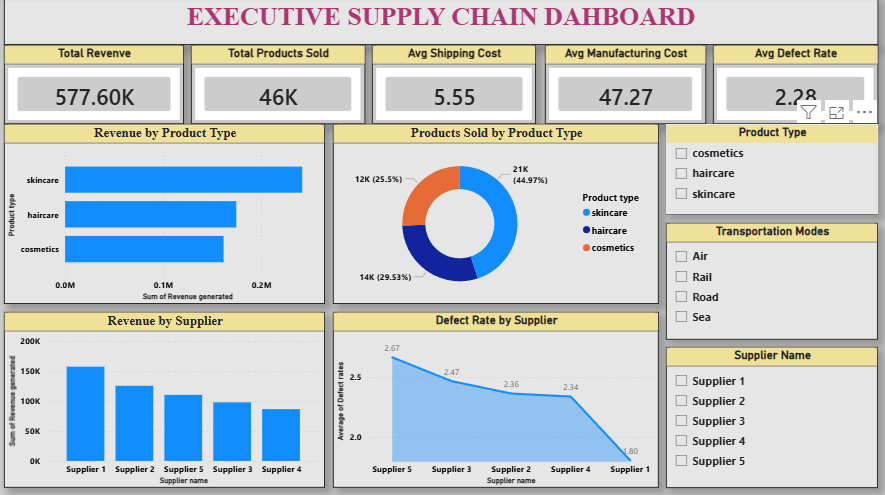

What the dashboard file says about the page in this screenshot:
{"tool":"powerbi","page":{"name":"Executive Dashboard ","canvas":[1280,720],"ordinal":0},"visuals":[{"type":"textbox","box":[10.2,0,1258.5,68.8],"z":0},{"type":"cardVisual","title":"Total Revenve","fields":{"Data":["project_supply_chain_data Supplier_Performance.Total Revenue"]},"box":[10.1,69.1,259.2,113.8],"z":1000},{"type":"cardVisual","title":"Total Products Sold ","fields":{"Data":["project_supply_chain_data Supplier_Performance.Total Products Sold"]},"box":[279.4,69.1,250.6,113.8],"z":2000},{"type":"cardVisual","title":"Avg Shipping Cost","fields":{"Data":["project_supply_chain_data Supplier_Performance.Avg Shipping Cost"]},"box":[540,69.1,236.2,113.8],"z":3000},{"type":"cardVisual","title":"Avg Manufacturing Cost","fields":{"Data":["project_supply_chain_data Supplier_Performance.Avg Manufacturing Cost"]},"box":[789.1,69.1,231.8,113.8],"z":4000},{"type":"cardVisual","title":"Avg Defect Rate","fields":{"Data":["project_supply_chain_data Supplier_Performance.Avg Defect Rate"]},"box":[1031,69.1,237.6,113.8],"z":5000},{"type":"clusteredBarChart","title":"Revenue by Product Type","fields":{"Category":["project_supply_chain_data supply_chain_data.Product type"],"Y":["Sum(project_supply_chain_data supply_chain_data.Revenue generated)"]},"box":[10.1,182.9,462.2,259.2],"z":6000},{"type":"donutChart","title":"Products Sold by Product  Type ","fields":{"Category":["project_supply_chain_data supply_chain_data.Product type"],"Y":["Sum(project_supply_chain_data supply_chain_data.Number of products sold)"]},"box":[483.8,182.9,469.4,259.2],"z":7000},{"type":"clusteredColumnChart","title":"Revenue by Supplier ","fields":{"Category":["project_supply_chain_data supply_chain_data.Supplier name"],"Y":["Sum(project_supply_chain_data supply_chain_data.Revenue generated)"]},"box":[10.1,453.6,462.2,253.4],"z":8000},{"type":"lineChart","title":"Defect Rate by Supplier ","fields":{"Category":["project_supply_chain_data supply_chain_data.Supplier name"],"Y":["Avg(project_supply_chain_data supply_chain_data.Defect rates)"]},"box":[483.8,453.6,469.4,253.4],"z":9000},{"type":"slicer","title":"Product Type","fields":{"Values":["project_supply_chain_data supply_chain_data.Product type"]},"box":[963.4,182.9,305.3,129.6],"z":10000},{"type":"slicer","title":"Transportation Modes","fields":{"Values":["project_supply_chain_data supply_chain_data.Transportation modes"]},"box":[963.4,325.4,305.3,168.5],"z":11000},{"type":"slicer","title":"Supplier Name","fields":{"Values":["project_supply_chain_data supply_chain_data.Supplier name"]},"box":[963.4,504,305.3,203],"z":12000}]}

Visuals, with their boxes in screenshot pixels (x1, y1, x2, y2), scaled from the page's 1280x720 canvas onto the 885x495 screenshot:
textbox: Rect(7, 0, 877, 47)
"Total Revenve" cardVisual: Rect(7, 48, 186, 126)
"Total Products Sold " cardVisual: Rect(193, 48, 366, 126)
"Avg Shipping Cost" cardVisual: Rect(373, 48, 537, 126)
"Avg Manufacturing Cost" cardVisual: Rect(546, 48, 706, 126)
"Avg Defect Rate" cardVisual: Rect(713, 48, 877, 126)
"Revenue by Product Type" clusteredBarChart: Rect(7, 126, 327, 304)
"Products Sold by Product  Type " donutChart: Rect(335, 126, 659, 304)
"Revenue by Supplier " clusteredColumnChart: Rect(7, 312, 327, 486)
"Defect Rate by Supplier " lineChart: Rect(335, 312, 659, 486)
"Product Type" slicer: Rect(666, 126, 877, 215)
"Transportation Modes" slicer: Rect(666, 224, 877, 340)
"Supplier Name" slicer: Rect(666, 346, 877, 486)
